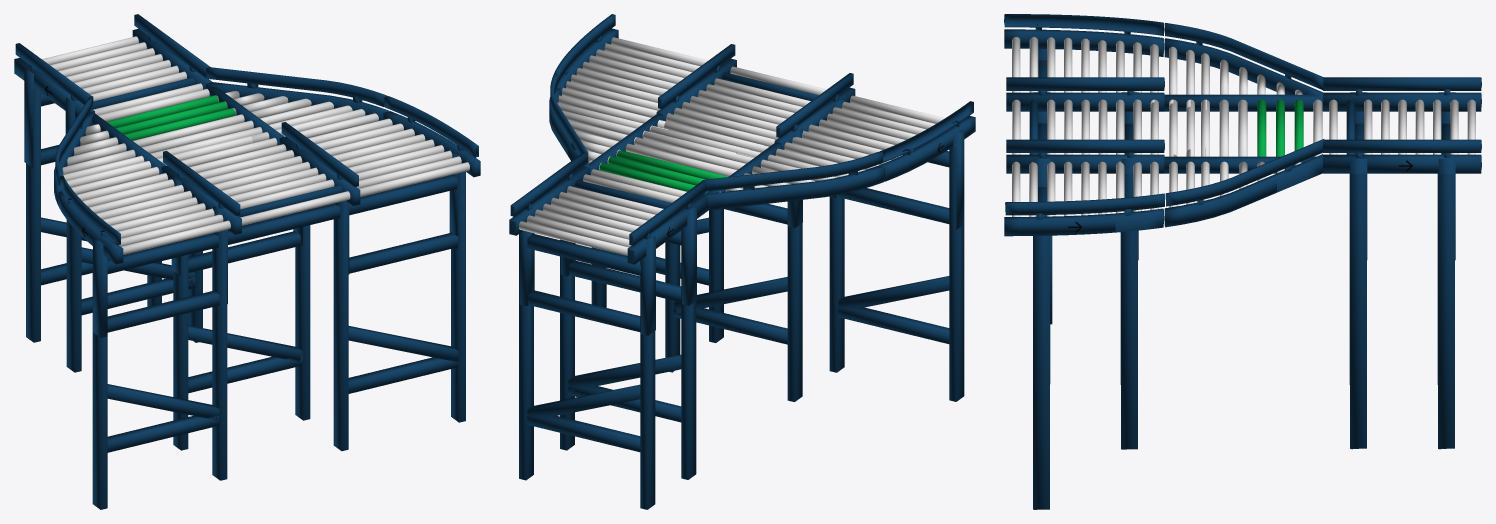
Rendered from Tall Union.glb.
3 views of the same model, side by side, from view 1: azimuth 30°, elevation 25°; view 2: azimuth 150°, elevation 25°; view 3: azimuth 270°, elevation 25° (orthographic). The views are drawn at different scales.
Parts seen in each view (by area): view 1: Belt.194, Belt.211, Belt.261, Belt.260, Belt.212, Belt.259, Belt.267, Belt.275, Belt.268, Belt.204, Belt.276, Belt.273 (+54 smaller); view 2: Belt.194, Belt.212, Belt.275, Belt.211, Belt.204, Belt.259, Belt.276, Belt.260, Belt.258, Belt.214, Belt.205, Belt.257 (+45 smaller); view 3: Belt.194, Belt.211, Belt.212, Belt.205, Belt.258, Belt.267, Belt.268, Belt.206, Belt.195, Belt.196, Belt.199, Belt.200.
Boxes of the visible parts, <box> form: Belt.194: <box>14,14,360,303</box>; Belt.211: <box>205,67,480,177</box>; Belt.261: <box>333,200,348,451</box>; Belt.260: <box>212,230,227,480</box>; Belt.212: <box>54,96,123,264</box>; Belt.259: <box>26,87,40,342</box>; Belt.267: <box>451,171,465,422</box>; Belt.275: <box>92,249,107,509</box>; Belt.268: <box>295,225,310,420</box>; Belt.204: <box>66,117,81,372</box>; Belt.276: <box>173,255,188,450</box>; Belt.273: <box>107,290,219,332</box>; Belt.194: <box>509,44,855,335</box>; Belt.212: <box>702,101,975,210</box>; Belt.275: <box>949,146,964,401</box>; Belt.211: <box>549,14,618,174</box>; Belt.204: <box>681,230,696,479</box>; Belt.259: <box>640,260,655,509</box>; Belt.276: <box>787,202,802,401</box>; Belt.260: <box>829,195,844,372</box>; Belt.258: <box>519,234,533,480</box>; Belt.214: <box>528,290,640,331</box>; Belt.205: <box>560,239,574,450</box>; Belt.257: <box>527,414,640,452</box>; Belt.194: <box>1006,77,1481,260</box>; Belt.211: <box>1004,139,1324,236</box>; Belt.212: <box>1004,14,1323,110</box>; Belt.205: <box>1350,173,1366,449</box>; Belt.258: <box>1438,173,1454,449</box>; Belt.267: <box>1033,235,1049,509</box>; Belt.268: <box>1121,174,1137,449</box>; Belt.206: <box>1164,94,1322,111</box>; Belt.195: <box>1164,156,1315,173</box>; Belt.196: <box>1238,99,1247,156</box>; Belt.199: <box>1219,99,1228,156</box>; Belt.200: <box>1257,99,1266,156</box>.
Bounding box in the file's own units: 22.98 × 17.08 × 24.11.
